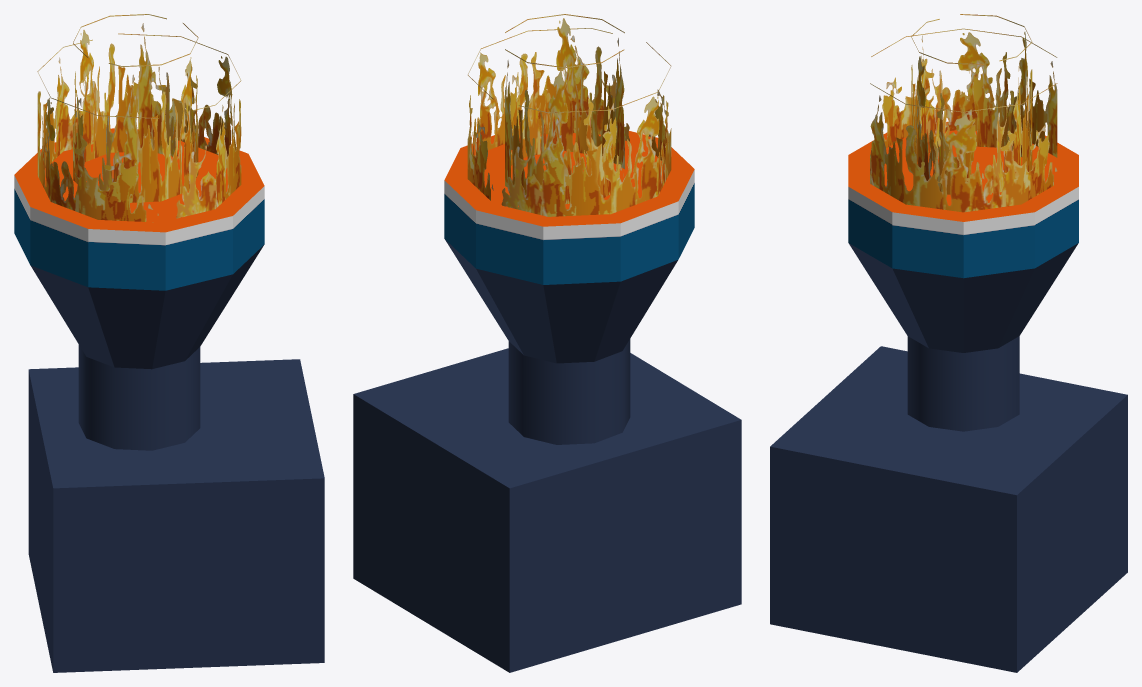
Rendered from Olympic_Torch.FBX.
3 renders of one model, left to right at view 1: azimuth 30°, elevation 25°; view 2: azimuth 150°, elevation 25°; view 3: azimuth 270°, elevation 25°, orthographic. The views are drawn at different scales.
Parts seen in each view (by area): view 1: Olympic_Torch; view 2: Olympic_Torch; view 3: Olympic_Torch.
Boxes of the visible parts, left/top/right/bottom form: Olympic_Torch: left=14, top=14, right=324, bottom=672; Olympic_Torch: left=353, top=14, right=741, bottom=672; Olympic_Torch: left=770, top=14, right=1127, bottom=672.
Size of the model in its own units: 111 by 190 by 113.
